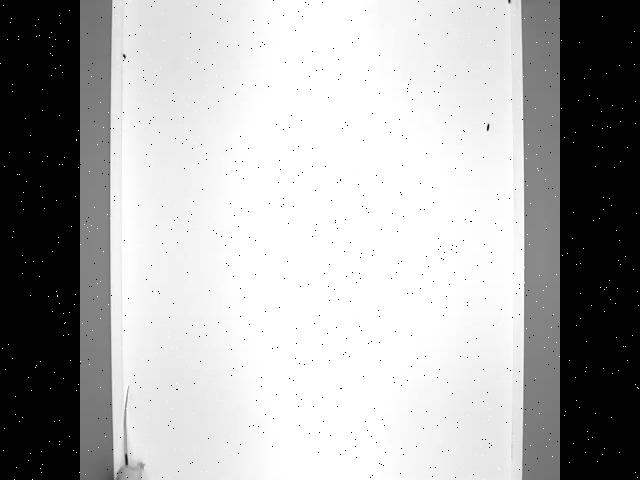Tikus: (110, 381, 152, 480)
